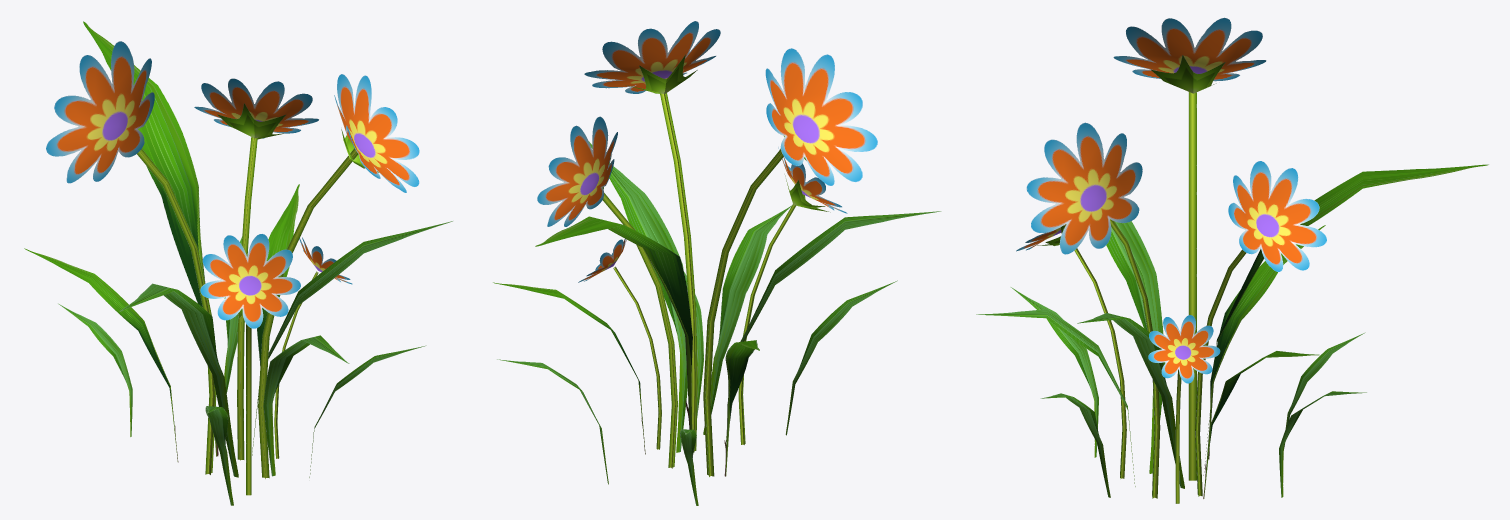
Rendered from Flower_01.FBX.
3 renders of one model, left to right at view 1: azimuth 30°, elevation 25°; view 2: azimuth 150°, elevation 25°; view 3: azimuth 270°, elevation 25°, orthographic. The views are drawn at different scales.
Visible parts, largest first — view 1: Flower_01; view 2: Flower_01; view 3: Flower_01.
Part boxes in pixels (left/top/right/bottom): Flower_01: left=24, top=21, right=452, bottom=505; Flower_01: left=493, top=21, right=941, bottom=505; Flower_01: left=976, top=17, right=1488, bottom=503.
Bounding box in the file's own units: 45.75 × 52.53 × 56.98.
